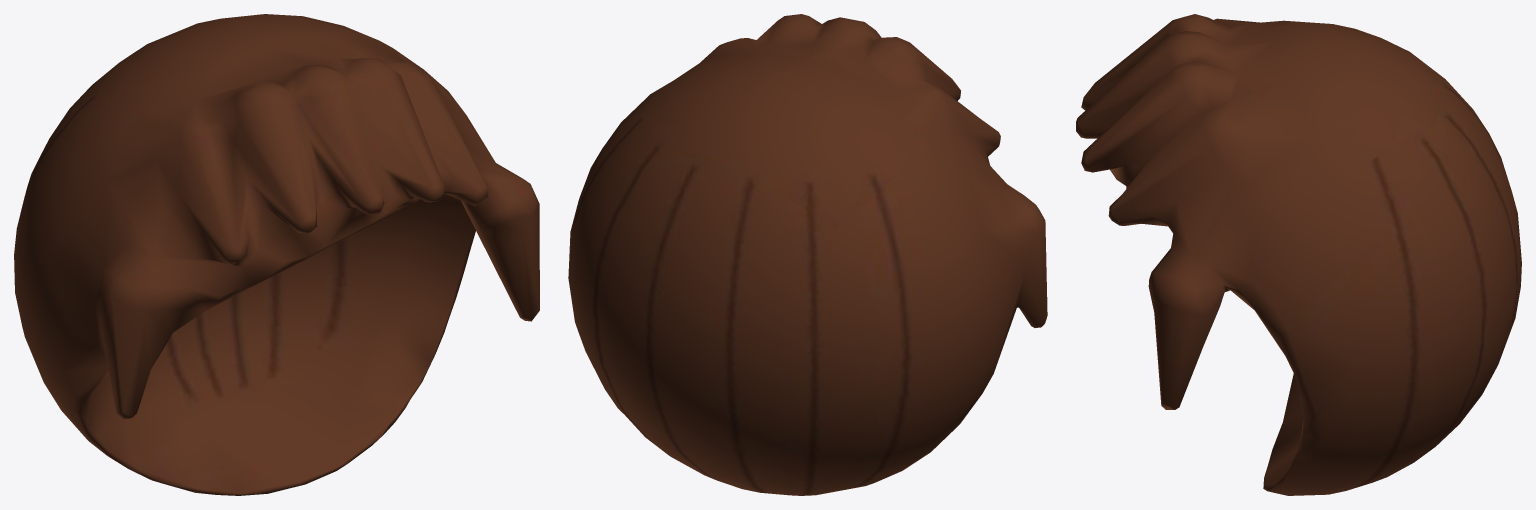
Rendered from avatar-hair-short.glb.
3 renders of one model, left to right at view 1: azimuth 30°, elevation 25°; view 2: azimuth 150°, elevation 25°; view 3: azimuth 270°, elevation 25°, orthographic. The views are drawn at different scales.
Parts seen in each view (by area): view 1: hair; view 2: hair; view 3: hair.
Part boxes in pixels (<box>): hair: <box>14,14,539,495</box>; hair: <box>568,14,1047,495</box>; hair: <box>1076,14,1521,495</box>.
Bounding box in the file's own units: 0.433 × 0.4359 × 0.4015.
Materials: 1 (1 with a texture image).
